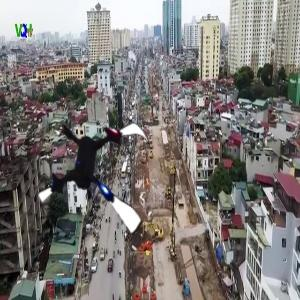drone: (30, 108, 168, 246)
